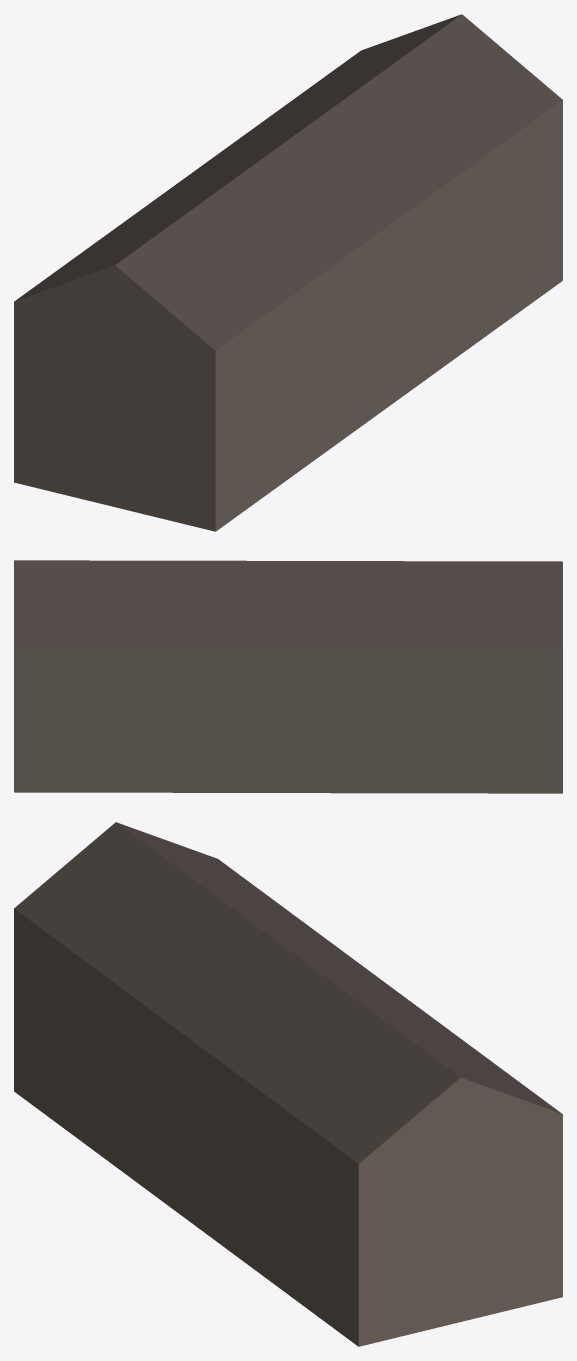
3 views of the same model, one above another, from view 1: azimuth 30°, elevation 25°; view 2: azimuth 150°, elevation 25°; view 3: azimuth 270°, elevation 25° (orthographic). The views are drawn at different scales.
Visible parts, largest first — view 1: HP-w859447926; view 2: HP-w859447926; view 3: HP-w859447926.
Part boxes in pixels (left/top/right/bottom): HP-w859447926: left=14, top=14, right=562, bottom=531; HP-w859447926: left=14, top=560, right=562, bottom=793; HP-w859447926: left=14, top=822, right=562, bottom=1346.
Bounding box in the file's own units: 32.22 × 12.04 × 24.49.
